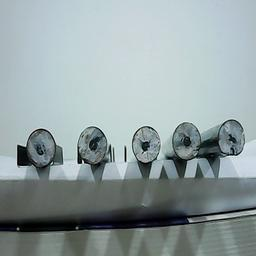pen: (24, 128, 56, 167), (76, 125, 108, 164), (129, 124, 161, 163), (170, 121, 202, 160), (214, 119, 246, 158)
